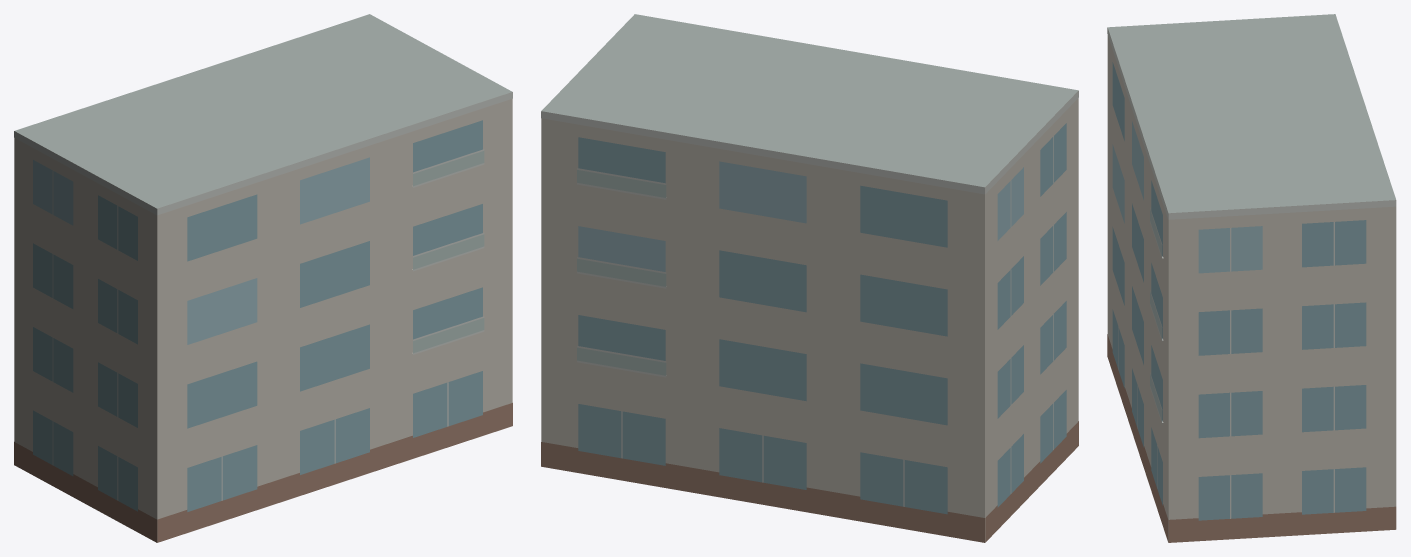
The model's file is survey-upis-32996298.glb.
3 views of the same model, side by side, from view 1: azimuth 30°, elevation 25°; view 2: azimuth 150°, elevation 25°; view 3: azimuth 270°, elevation 25° (orthographic). The views are drawn at different scales.
Visible parts, largest first — view 1: survey-upis-32996298.tmp; view 2: survey-upis-32996298.tmp; view 3: survey-upis-32996298.tmp.
Part boxes in pixels (<box>): survey-upis-32996298.tmp: <box>14,14,512,542</box>; survey-upis-32996298.tmp: <box>541,14,1078,542</box>; survey-upis-32996298.tmp: <box>1107,14,1396,542</box>.
Size of the model in its own units: 15.76 by 12.15 by 9.66.
